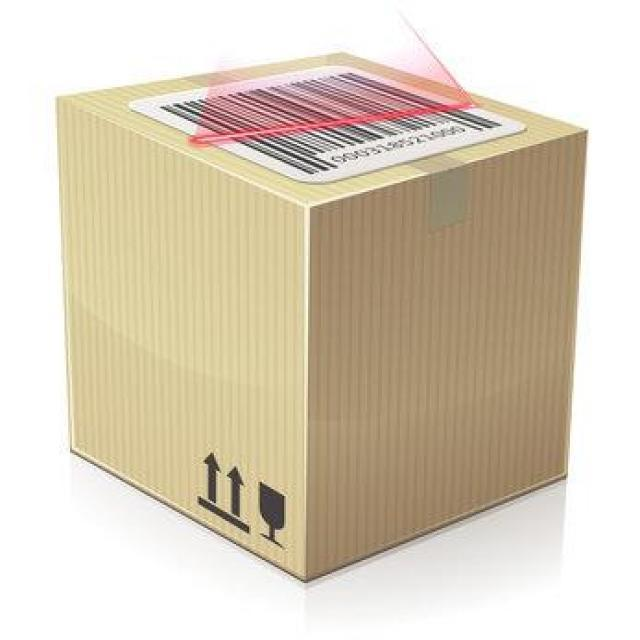box: (55, 39, 590, 586)
